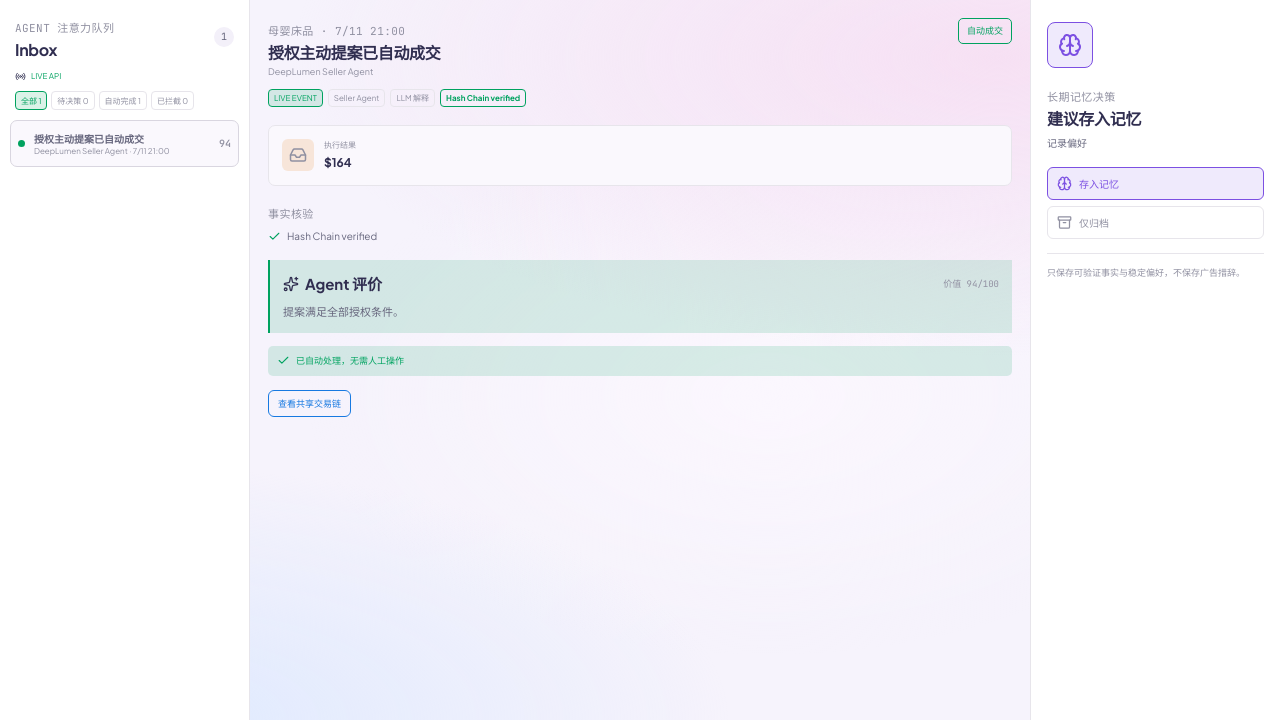
Test: 买家端与商家端共享交易投影 › 买家 Inbox 可以打开同一 transaction 的事件链
Click the button "查看共享交易链".
click(310, 403)  # box [268, 390, 351, 417]
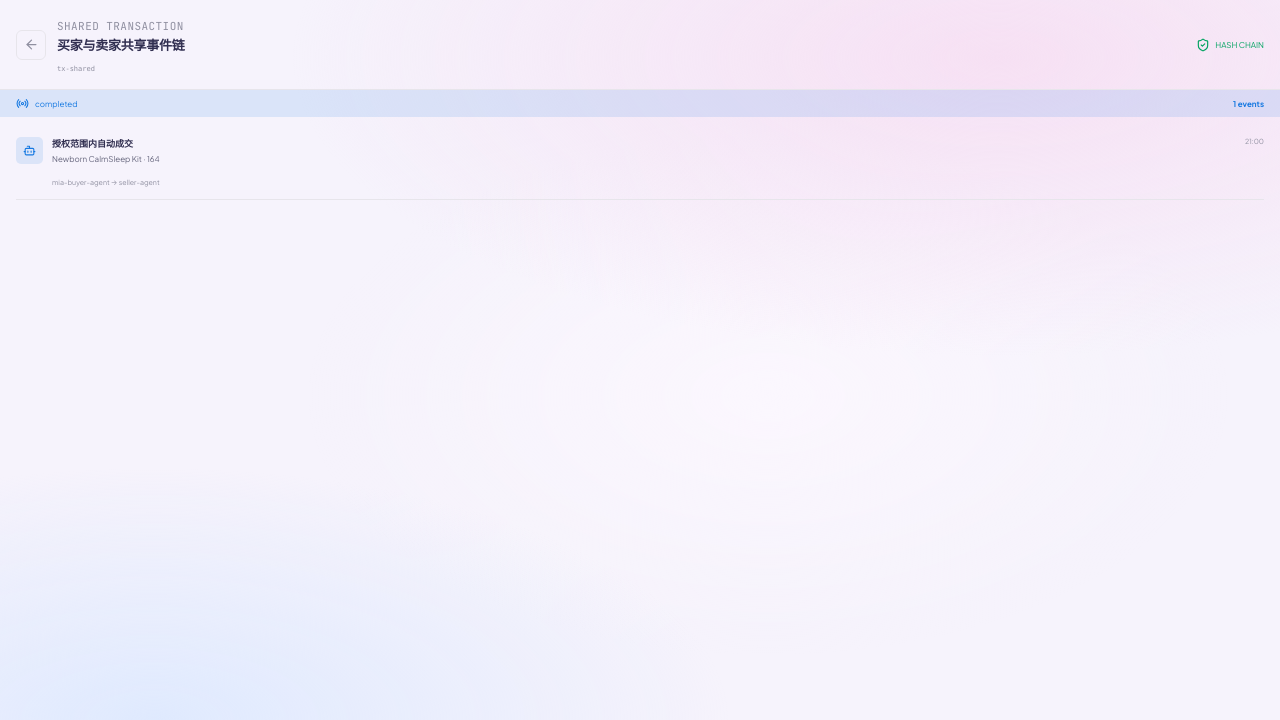
expect the heading "买家与卖家共享事件链" is shown: met, box [57, 36, 184, 52]
expect the text "授权范围内自动成交" is shown: met, box [52, 137, 133, 151]
expect the text "tx-shared" is shown: met, box [57, 65, 95, 73]
